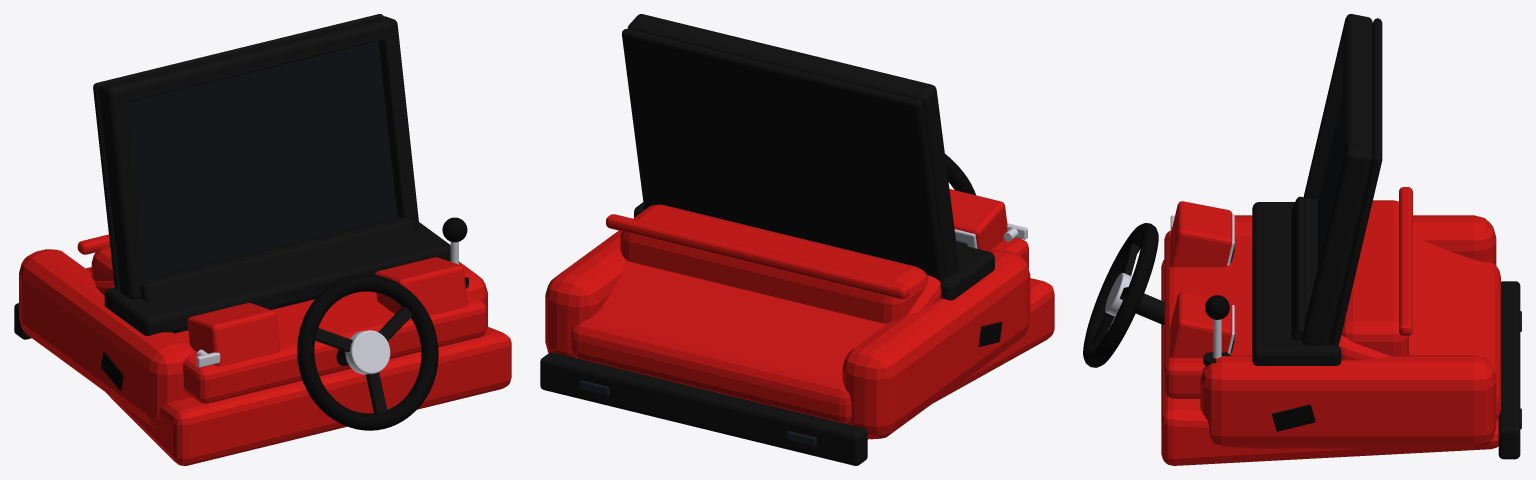
Rendered from toy.glb.
3 views of the same model, side by side, from view 1: azimuth 30°, elevation 25°; view 2: azimuth 150°, elevation 25°; view 3: azimuth 270°, elevation 25° (orthographic). The views are drawn at different scales.
Parts seen in each view (by area): view 1: Body, Screen, ScreenFrame, SteeringWheel, HeadlightLeft, HeadlightRight, GearLever; view 2: Body, ScreenFrame, Bumper, HeadlightLeft, SteeringWheel; view 3: Body, ScreenFrame, SteeringWheel, HeadlightLeft, Bumper, HeadlightRight, Screen, GearLever.
Part boxes in pixels (x1,y1,x2,y2): Body: (19,219,511,465); Screen: (127,41,397,277); ScreenFrame: (93,14,419,299); SteeringWheel: (297,274,438,430); HeadlightLeft: (187,303,280,366); HeadlightRight: (374,257,467,320); GearLever: (442,217,467,264); Body: (545,202,1054,439); ScreenFrame: (622,14,959,282); Bumper: (540,352,867,465); HeadlightLeft: (949,189,1007,251); SteeringWheel: (945,154,975,195); Body: (1135,187,1500,465); ScreenFrame: (1302,14,1382,345); SteeringWheel: (1083,223,1158,367); HeadlightLeft: (1169,201,1234,267); Bumper: (1498,281,1521,459); HeadlightRight: (1169,292,1234,357); Screen: (1318,95,1343,265); GearLever: (1205,295,1229,358).
Bounding box in the file's own units: 0.25 × 0.217 × 0.2818.
